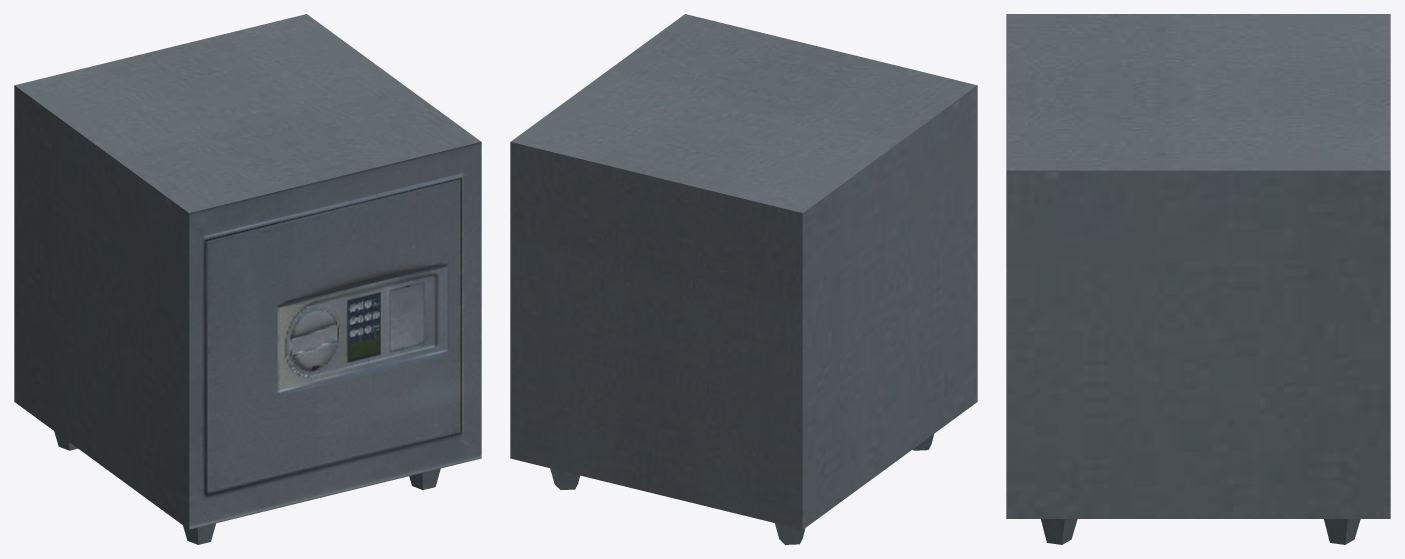
Rendered from officesafe.gltf.
The picture shows the model from 3 angles, left to right: view 1: azimuth 30°, elevation 25°; view 2: azimuth 150°, elevation 25°; view 3: azimuth 270°, elevation 25°; orthographic projection. The views are drawn at different scales.
Parts seen in each view (by area): view 1: Cube; view 2: Cube; view 3: Cube.
Boxes of the visible parts, x1,y1,x2,y2 form: Cube: (14, 14, 481, 544); Cube: (510, 14, 977, 544); Cube: (1006, 14, 1390, 544).
Size of the model in its own units: 0.9957 by 1.15 by 1.03.
Materials: 1 (1 with a texture image).
